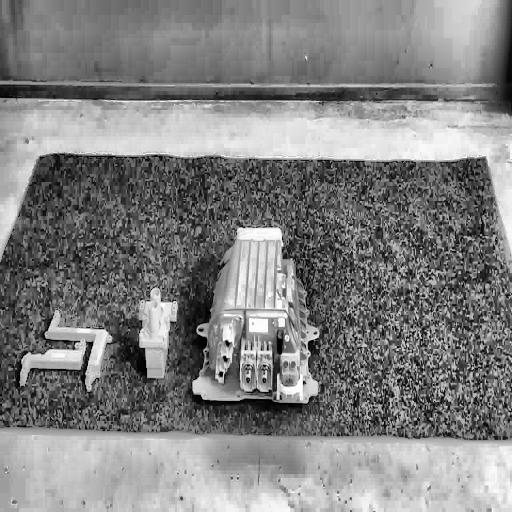bms_unit: (192, 225, 321, 404)
busbar: (44, 307, 112, 391), (19, 337, 87, 389)
connector: (139, 286, 179, 379)
